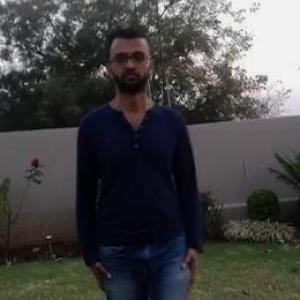follow: (75, 29, 207, 299)
